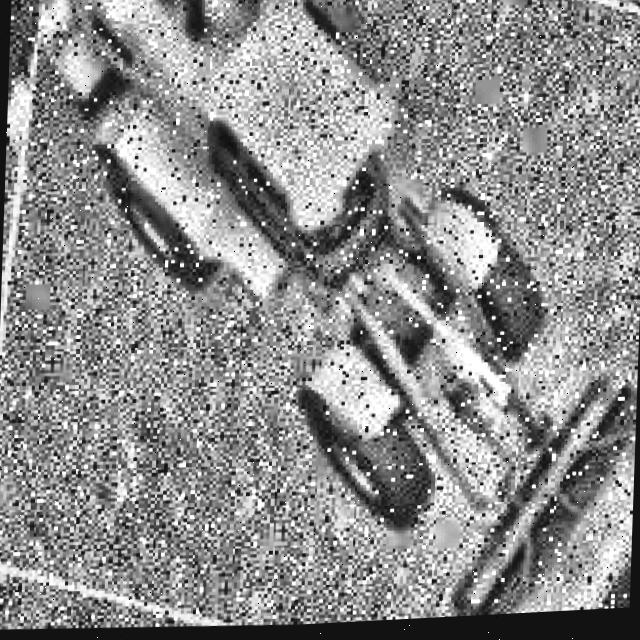buldozerpayloadergrader: (10, 0, 640, 640)
